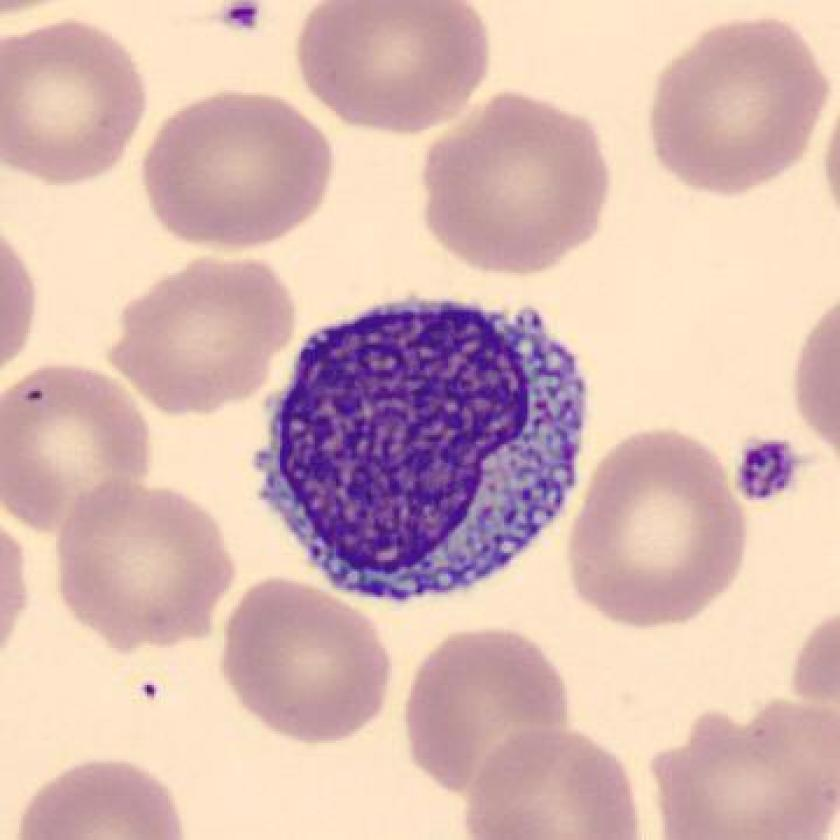monocyte: (241, 279, 615, 619)
